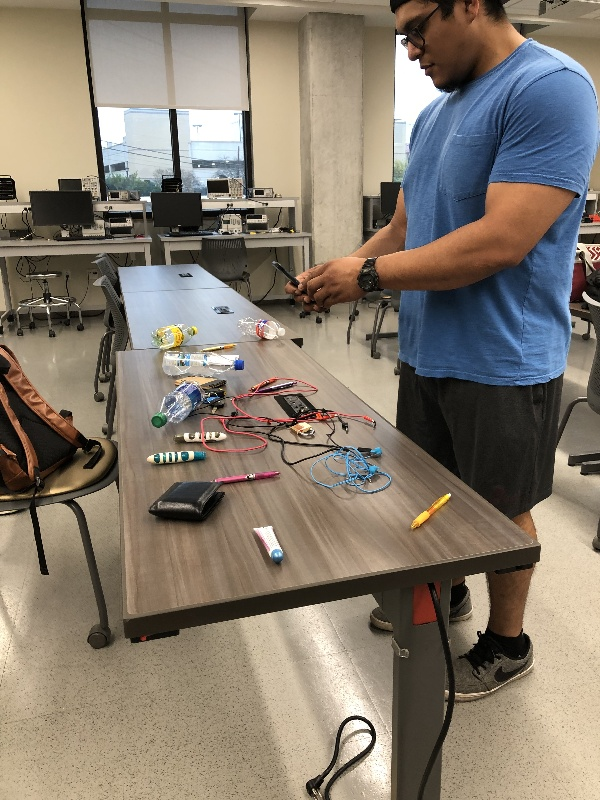bottle: (144, 376, 214, 431), (155, 347, 248, 380), (146, 320, 204, 350), (235, 316, 286, 342)
